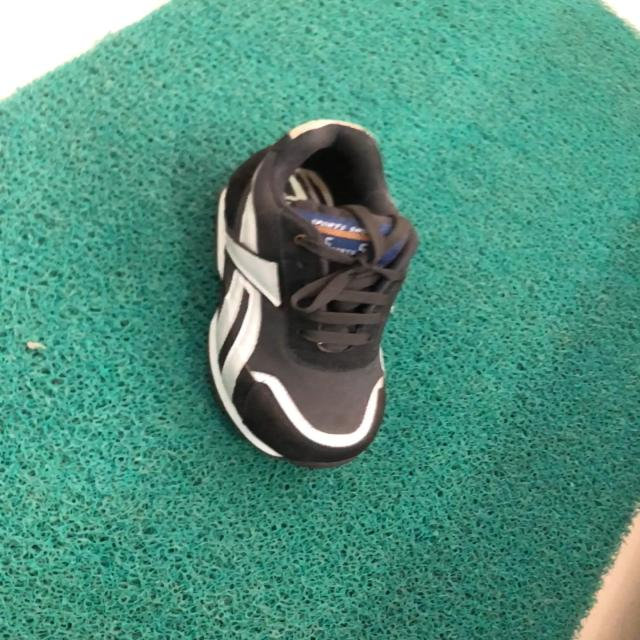shoe: (206, 121, 420, 472)
